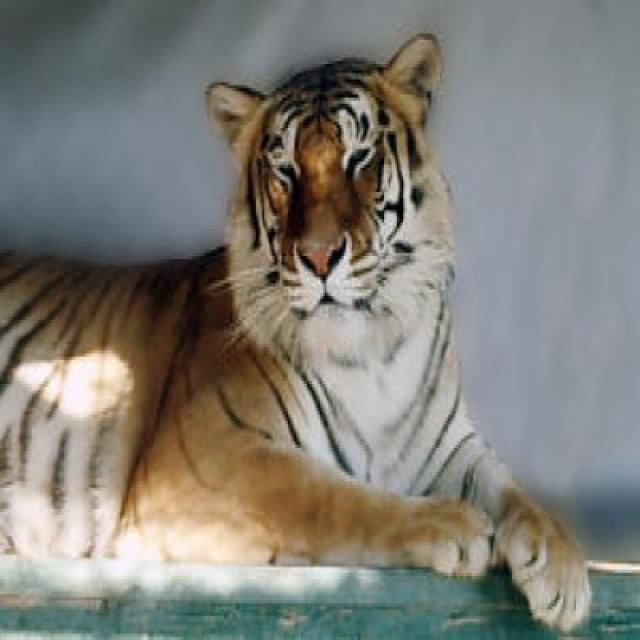Tiger: (6, 34, 594, 627)
